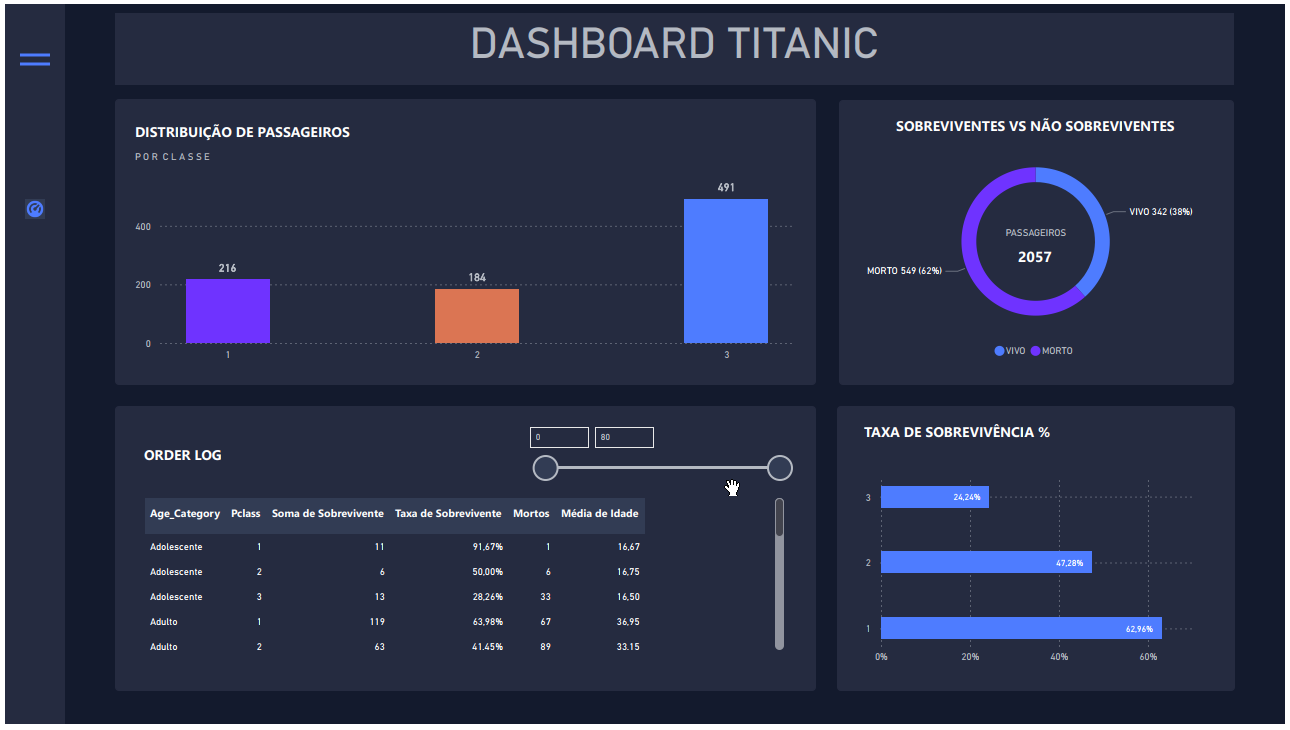

This screenshot's page, from the dashboard's own definition file:
{"tool":"powerbi","page":{"name":"Página 1","canvas":[1280,720],"ordinal":0},"visuals":[{"type":"basicShape","box":[0,0,60,720.3],"z":0,"group":"g1"},{"type":"basicShape","box":[4.8,40.7,50,20],"z":0,"group":"g2"},{"type":"basicShape","box":[833.6,96.3,395.9,285],"z":0},{"type":"basicShape","box":[121.6,417.3,673.9,255.8],"z":0,"group":"g3"},{"type":"basicShape","box":[4.8,50.2,50,20],"z":1000,"group":"g2"},{"type":"basicShape","box":[109.9,95.3,701.3,286],"z":1000},{"type":"actionButton","box":[20.4,195.4,20,20],"z":1000,"group":"g1"},{"type":"basicShape","box":[110,401.7,701.4,285.5],"z":2000},{"type":"textbox","title":"ORDER LOG","box":[133.4,441.1,162.9,48.2],"z":2000,"group":"g3"},{"type":"group","id":"g1","title":"Nav Bar","box":[0,0,60,720.3],"z":3000},{"type":"slicer","fields":{"Values":["Titanic.Age"]},"box":[512,413.1,284,67],"z":3000,"group":"g3"},{"type":"tableEx","fields":{"Values":["Titanic.Age_Category","Titanic.Pclass","Sum(Titanic.Survived)","Titanic.Survival Rate","Titanic.Non-Survivors","Avg(Titanic.Age)"]},"box":[133.9,488.8,649.4,162.3],"z":3500,"group":"g3"},{"type":"textbox","box":[966.9,217.8,127.7,23.2],"z":4000},{"type":"columnChart","title":"DISTRIBUIÇÃO DE PASSAGEIROS","fields":{"Category":["Titanic.Pclass"],"Y":["CountNonNull(Titanic.Pclass)"]},"box":[125,117.9,667.7,245.6],"z":5000},{"type":"card","fields":{"Values":["Sum(Titanic.Pclass)"]},"box":[998.4,241.2,63.8,25.7],"z":6000},{"type":"group","id":"g2","title":"Group 1","box":[4.8,40.7,50.3,28.8],"z":7000,"group":"g1"},{"type":"donutChart","title":"SOBREVIVENTES VS NÃO SOBREVIVENTES","fields":{"Y":["Titanic.Survivors","Titanic.Non-Survivors"]},"box":[831.7,111.7,397.2,253.6],"z":7000},{"type":"basicShape","box":[831.7,401.7,398.1,285.5],"z":8000},{"type":"clusteredBarChart","fields":{"Category":["Titanic.Pclass"],"Y":["Titanic.Survival Rate"]},"box":[854,462.1,352.2,203.9],"z":9000},{"type":"textbox","title":"TAXA DE SOBREVIVÊNCIA %","box":[854,418.4,352.2,42.5],"z":10000},{"type":"group","id":"g3","title":"Table","box":[121.6,413.1,674.5,260],"z":11000},{"type":"textbox","box":[109.9,8.8,1119.5,72],"z":12000}]}

Visuals, with their boxes on the page's 1280x720 design canvas (x1, y1, x2, y2). These are canvas units, not pixel positions in the 1290x730 screenshot, which may show the page scaled, cropped or inside an application window:
basicShape: locate(0, 0, 60, 720)
basicShape: locate(5, 41, 55, 61)
basicShape: locate(834, 96, 1230, 381)
basicShape: locate(122, 417, 796, 673)
basicShape: locate(5, 50, 55, 70)
basicShape: locate(110, 95, 811, 381)
actionButton: locate(20, 195, 40, 215)
basicShape: locate(110, 402, 811, 687)
"ORDER LOG" textbox: locate(133, 441, 296, 489)
"Nav Bar" group: locate(0, 0, 60, 720)
slicer - Titanic.Age: locate(512, 413, 796, 480)
tableEx - Titanic.Age_Category x Titanic.Pclass: locate(134, 489, 783, 651)
textbox: locate(967, 218, 1095, 241)
"DISTRIBUIÇÃO DE PASSAGEIROS" columnChart: locate(125, 118, 793, 364)
card - Sum(Titanic.Pclass): locate(998, 241, 1062, 267)
"Group 1" group: locate(5, 41, 55, 70)
"SOBREVIVENTES VS NÃO SOBREVIVENTES" donutChart: locate(832, 112, 1229, 365)
basicShape: locate(832, 402, 1230, 687)
clusteredBarChart - Titanic.Pclass x Titanic.Survival Rate: locate(854, 462, 1206, 666)
"TAXA DE SOBREVIVÊNCIA %" textbox: locate(854, 418, 1206, 461)
"Table" group: locate(122, 413, 796, 673)
textbox: locate(110, 9, 1229, 81)
